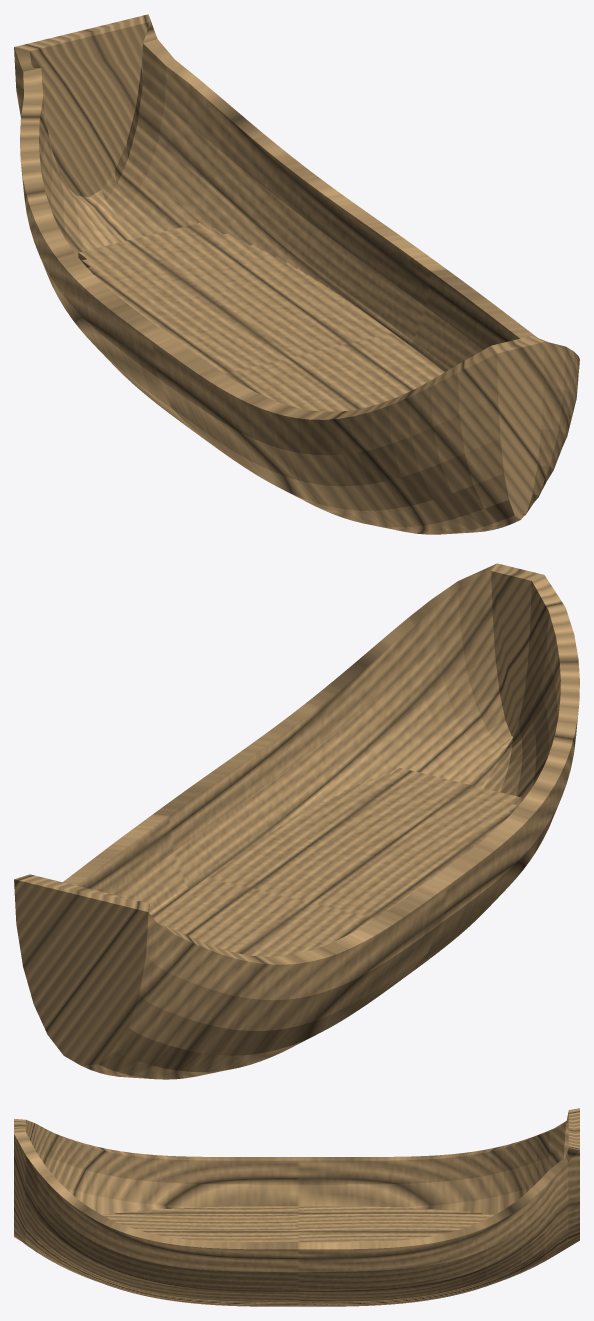
The picture shows the model from 3 angles, top to bottom: view 1: azimuth 30°, elevation 25°; view 2: azimuth 150°, elevation 25°; view 3: azimuth 270°, elevation 25°; orthographic projection. The views are drawn at different scales.
Parts seen in each view (by area): view 1: COL_Hull_shell, COL_Cockpit_sole; view 2: COL_Hull_shell, COL_Cockpit_sole; view 3: COL_Hull_shell, COL_Cockpit_sole.
Boxes of the visible parts, x1,y1,x2,y2 form: COL_Hull_shell: [14, 14, 579, 534]; COL_Cockpit_sole: [78, 223, 444, 411]; COL_Hull_shell: [14, 563, 579, 1079]; COL_Cockpit_sole: [154, 768, 521, 956]; COL_Hull_shell: [14, 1108, 579, 1306]; COL_Cockpit_sole: [103, 1206, 493, 1242].
Bounding box in the file's own units: 1.24 × 1.06 × 3.2.
Materials: 2 (2 with a texture image).
